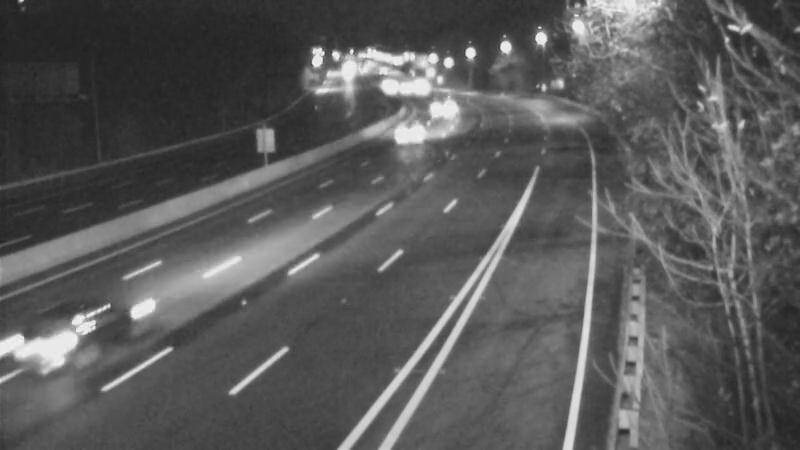vehicle: (4, 283, 114, 393), (364, 64, 414, 114), (396, 61, 446, 111), (384, 64, 434, 114), (414, 85, 464, 135), (392, 103, 442, 153)
